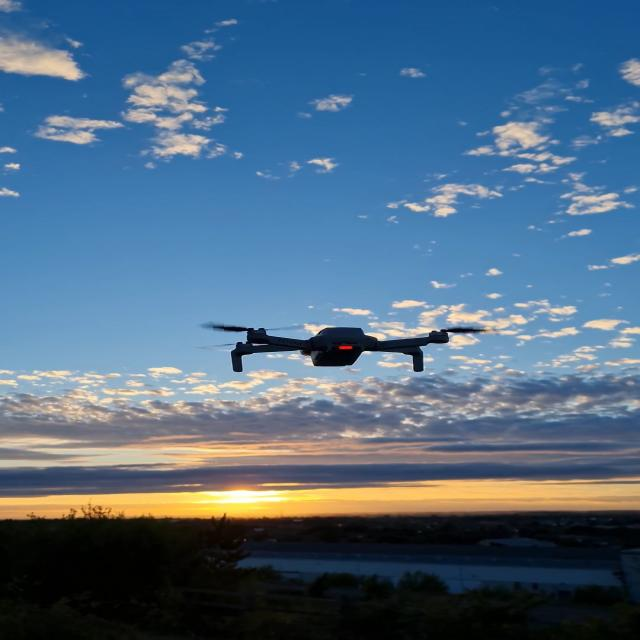Drone: (214, 299, 482, 393)
